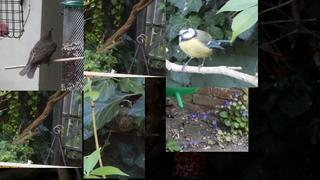blue tit: (176, 27, 231, 72)
starling: (19, 27, 57, 79)
